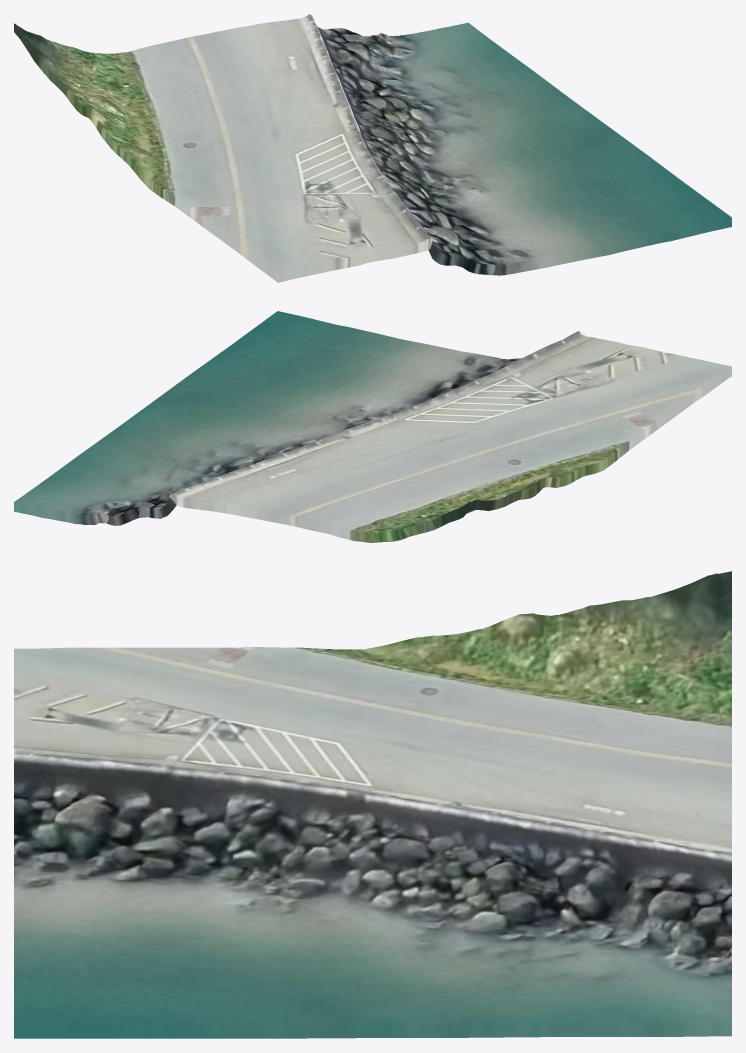
File: z20-167562-405171-h0-yup-uvflip-v3-world.glb
The picture shows the model from 3 angles, top to bottom: view 1: azimuth 30°, elevation 25°; view 2: azimuth 150°, elevation 25°; view 3: azimuth 270°, elevation 25°; orthographic projection. The views are drawn at different scales.
Size of the model in its own units: 30.16 by 7.72 by 30.32.
Materials: 1 (1 with a texture image).
